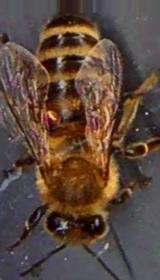varroa_mite: (38, 103, 62, 124)
